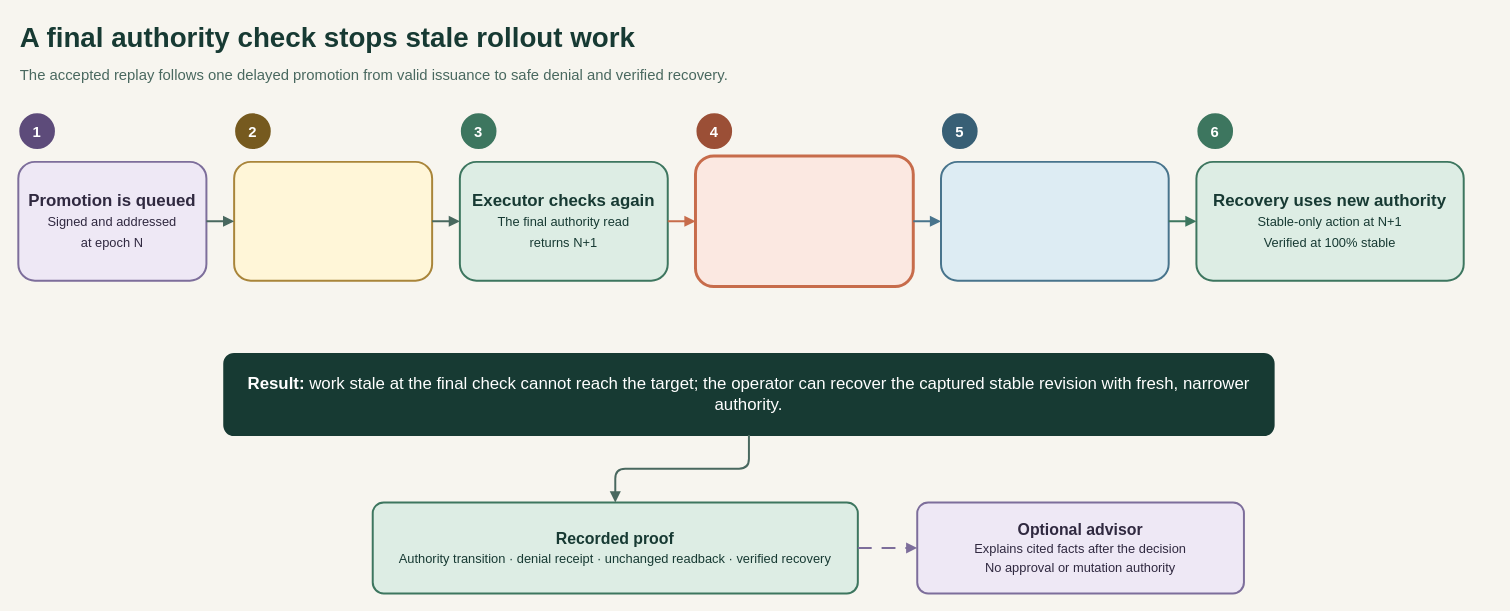
Image size: 1510x611. Some labels were removed from this diagram. Here are the shapes that lost their labels. From the top down, the centre of each, then its label:
At (333,220): "Operator revokes Current authority advances from N to N+1".
At (803,221): "Stale work is denied DENIED / EPOCH_MISMATCH No target call".
At (1054,220): "Traffic stays unchanged Independent readback proves 90% stable / 10% candidate".
